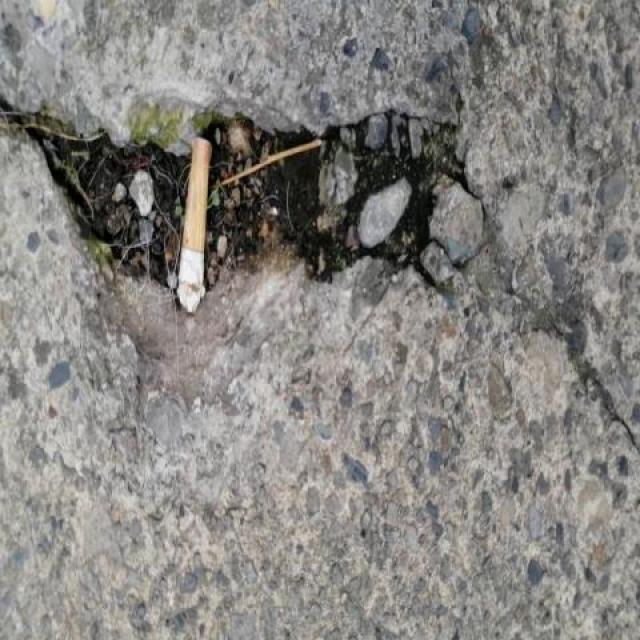non-organic waste: (169, 130, 216, 294)
